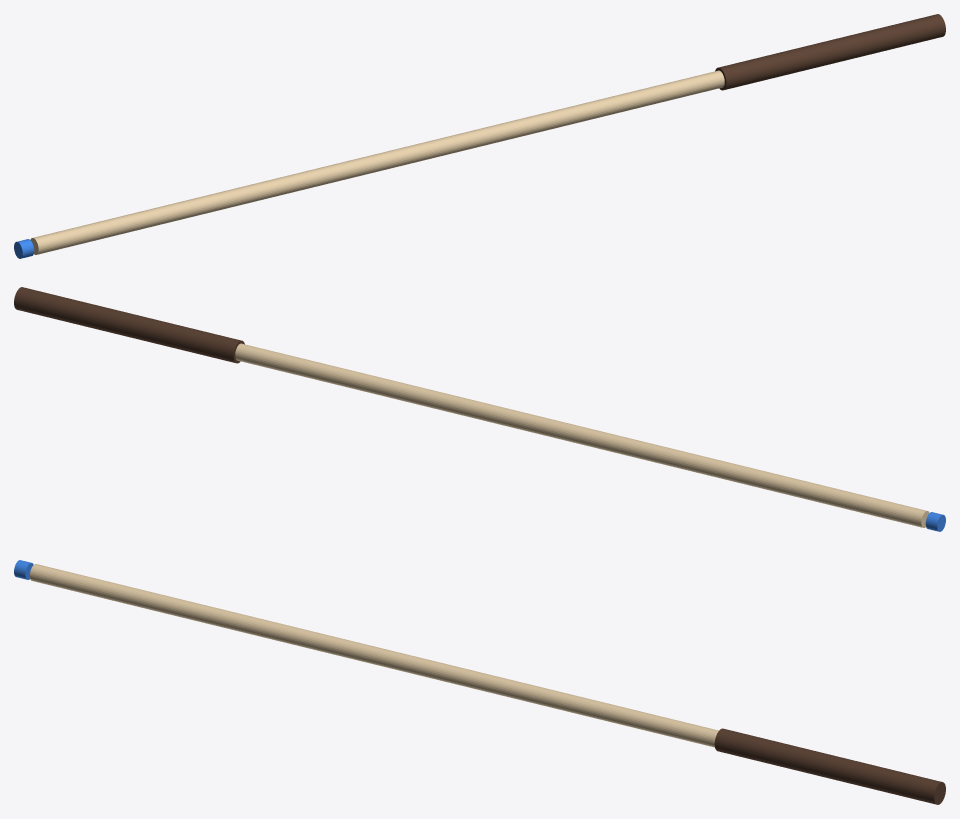
File: cue.glb
The picture shows the model from 3 angles, top to bottom: view 1: azimuth 30°, elevation 25°; view 2: azimuth 150°, elevation 25°; view 3: azimuth 330°, elevation 25°; orthographic projection.
Visible parts, largest first — view 1: SM_Cue; view 2: SM_Cue; view 3: SM_Cue.
Part boxes in pixels (box(x1,y1,x2,y2)): SM_Cue: box(14, 14, 945, 258); SM_Cue: box(14, 287, 945, 531); SM_Cue: box(14, 560, 945, 804).
Bounding box in the file's own units: 1.45 × 0.032 × 0.032.
